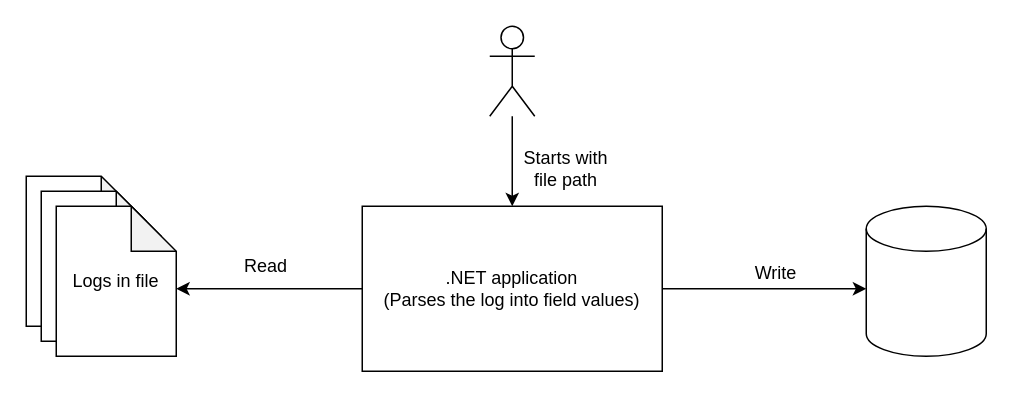
Image size: 1013x398. Some labels were removed from this diagram. Here are the shapes that lost their labels. From the top down, the centre of each, then its label:
At [511,70]: "User".
At [925,280]: "MySQL DB".
